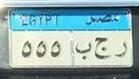5: (19, 39, 33, 59), (34, 38, 47, 58), (50, 40, 61, 59)
baa: (74, 41, 92, 61)
jeem: (94, 36, 110, 61)
raa: (113, 38, 129, 61)
